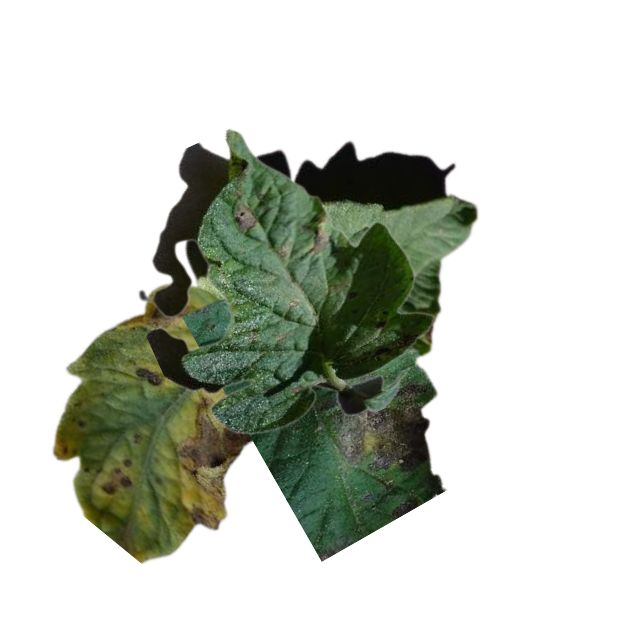Early_blight: (175, 397, 252, 530), (326, 386, 436, 470), (122, 299, 200, 328), (99, 457, 136, 496), (232, 201, 256, 235), (310, 220, 332, 252), (134, 366, 164, 388), (426, 322, 436, 343)
